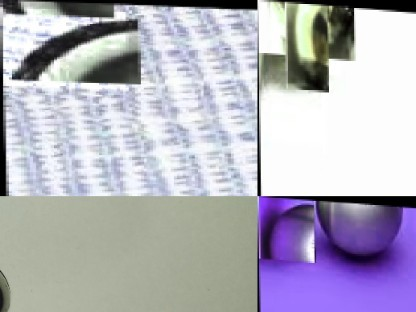ironball: (0, 6, 128, 89), (309, 199, 409, 268), (270, 0, 340, 74), (257, 196, 314, 261), (257, 0, 268, 120)
